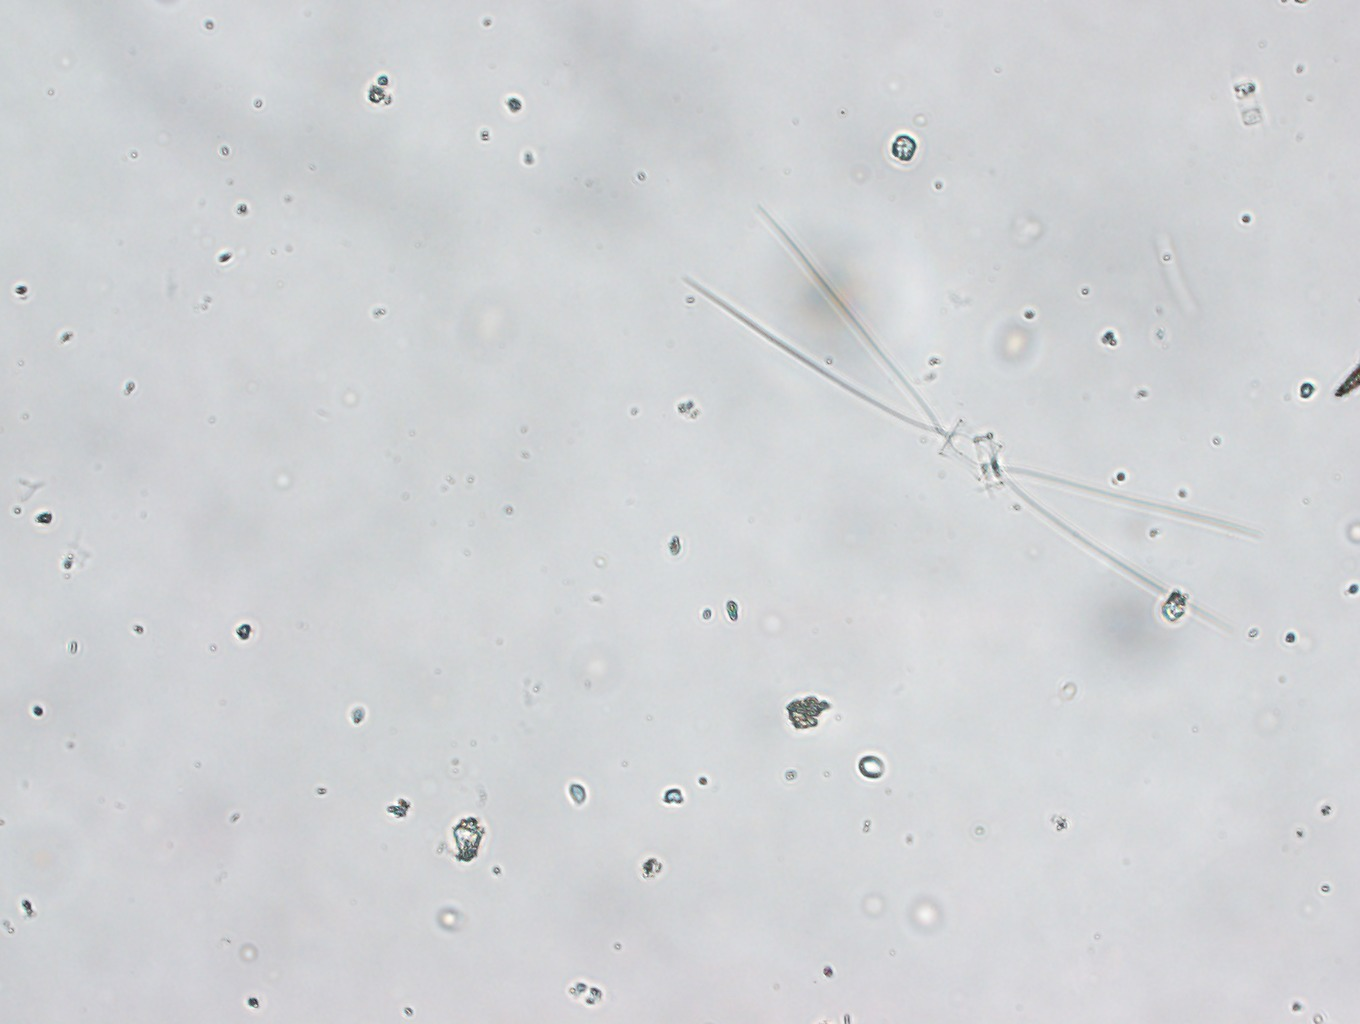chaetoceros: (696, 186, 1286, 646)
